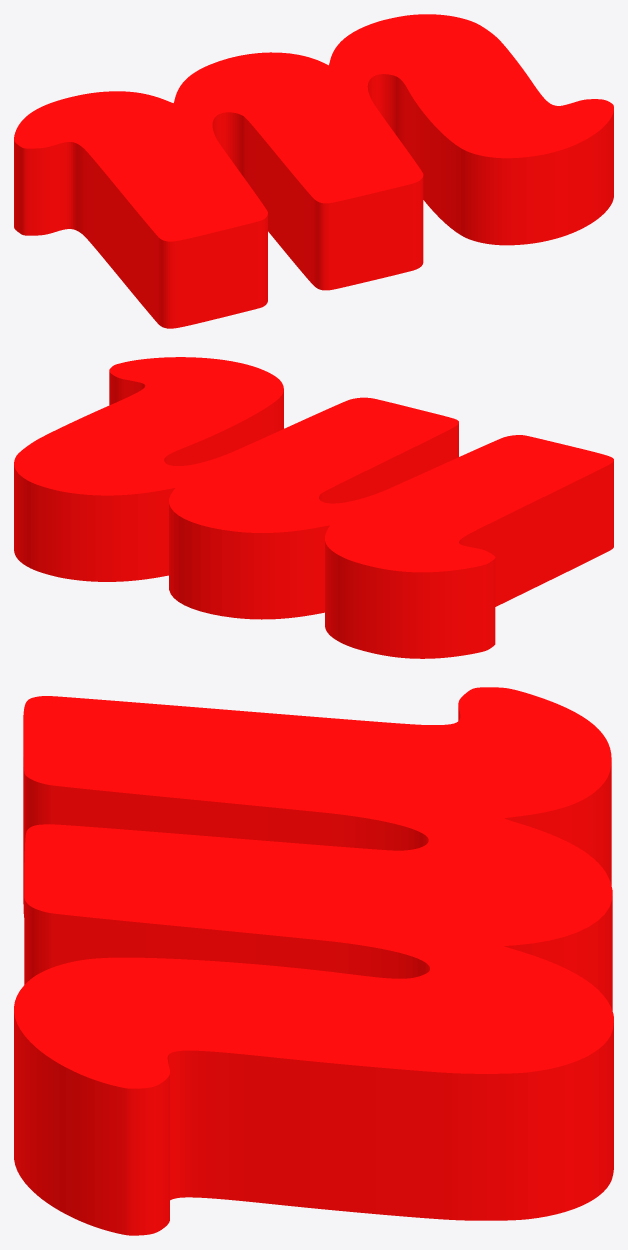
File: mmred.glb
The picture shows the model from 3 angles, top to bottom: view 1: azimuth 30°, elevation 25°; view 2: azimuth 150°, elevation 25°; view 3: azimuth 270°, elevation 25°; orthographic projection. The views are drawn at different scales.
Parts seen in each view (by area): view 1: Curve; view 2: Curve; view 3: Curve.
Part boxes in pixels (<box>): Curve: <box>14,14,613,328</box>; Curve: <box>14,357,613,658</box>; Curve: <box>14,687,613,1235</box>.
Bounding box in the file's own units: 9.32 × 1.59 × 5.89.
